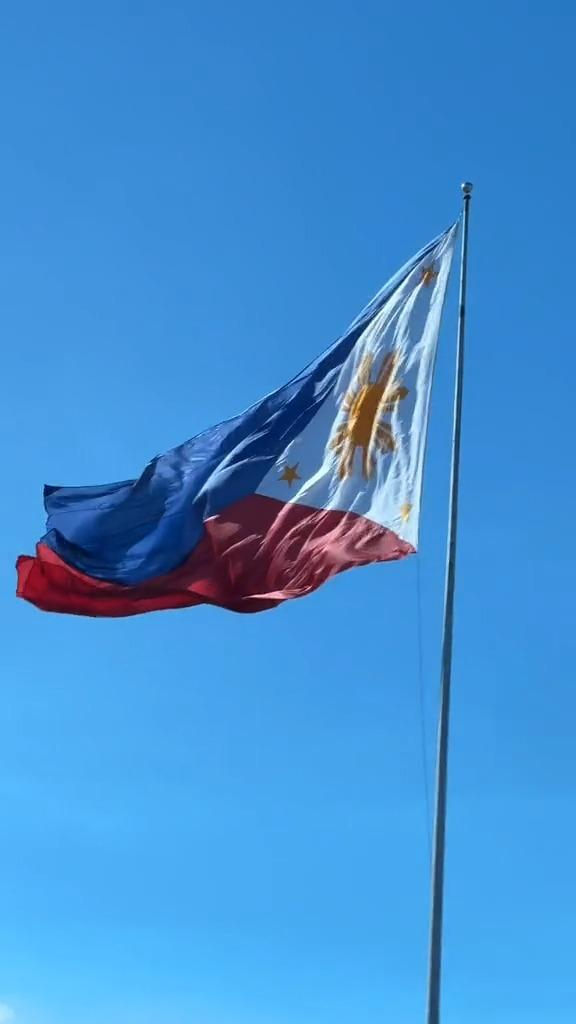Philippines: (7, 221, 454, 617)
